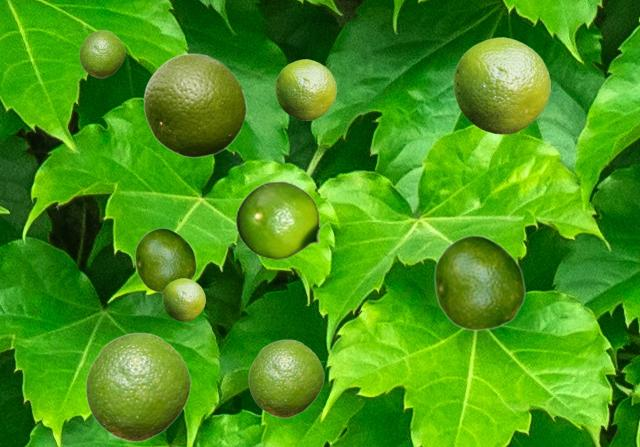calamansi: (85, 332, 190, 441), (143, 52, 246, 157), (453, 37, 549, 133), (433, 234, 525, 330), (235, 181, 329, 259), (248, 339, 323, 417), (134, 227, 196, 292), (275, 59, 335, 119), (79, 30, 124, 77), (162, 278, 204, 320)
